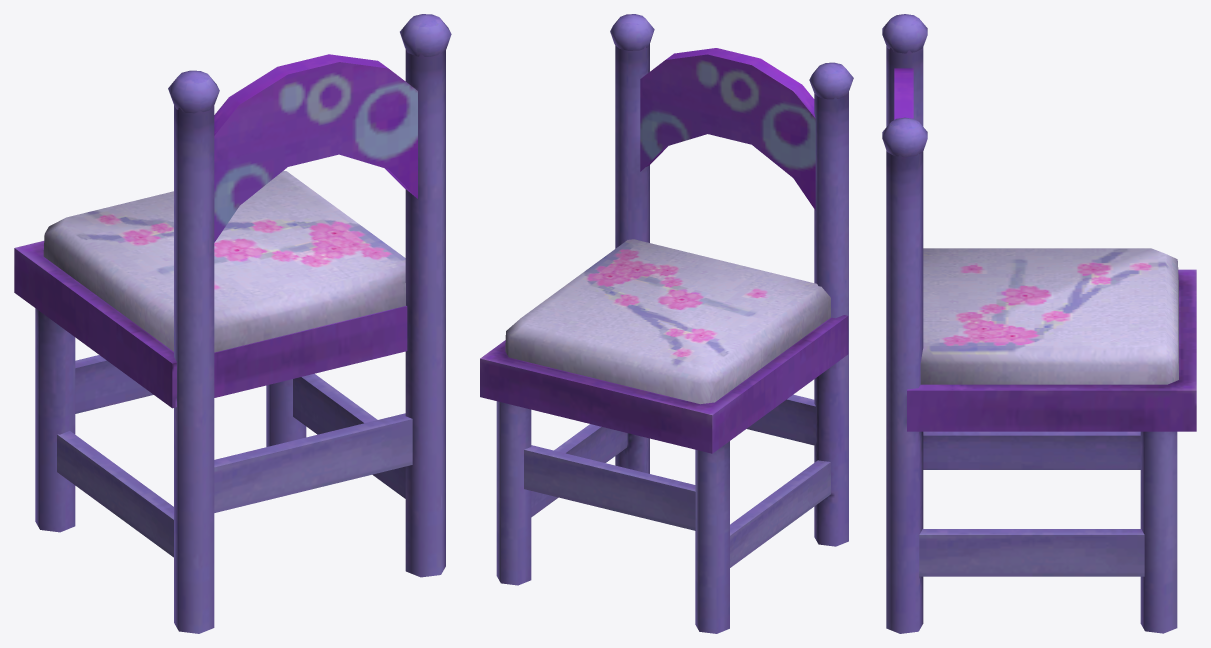
File: furni_0200510_03.FBX
3 views of the same model, side by side, from view 1: azimuth 30°, elevation 25°; view 2: azimuth 150°, elevation 25°; view 3: azimuth 270°, elevation 25° (orthographic). The views are drawn at different scales.
Parts seen in each view (by area): view 1: furni_0200510_03; view 2: furni_0200510_03; view 3: furni_0200510_03.
Part boxes in pixels (x1,y1,x2,y2): furni_0200510_03: [14, 14, 451, 633]; furni_0200510_03: [480, 14, 853, 633]; furni_0200510_03: [882, 14, 1196, 633].
Bounding box in the file's own units: 43.21 × 82.42 × 46.35.
Materials: 1 (1 with a texture image).
